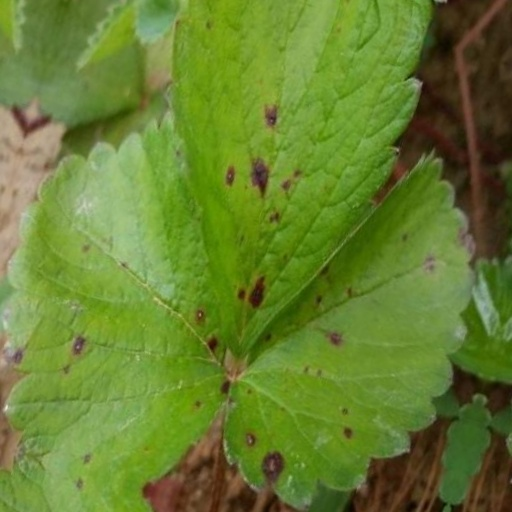Leaf Spot: (17, 137, 271, 511), (111, 0, 369, 363), (265, 99, 482, 490), (0, 31, 106, 191)
